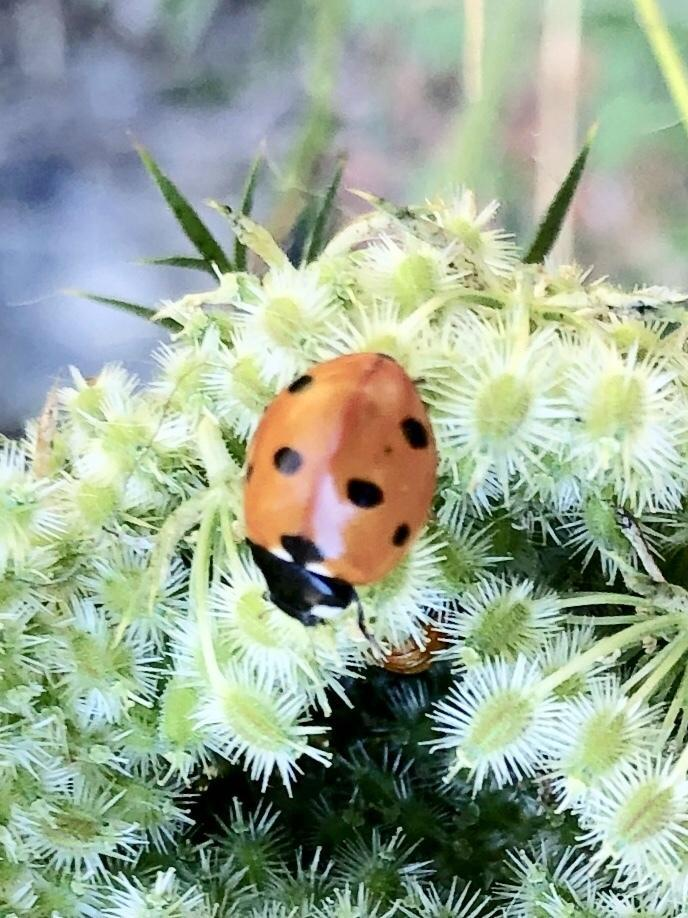ladybug: (236, 349, 454, 654)
